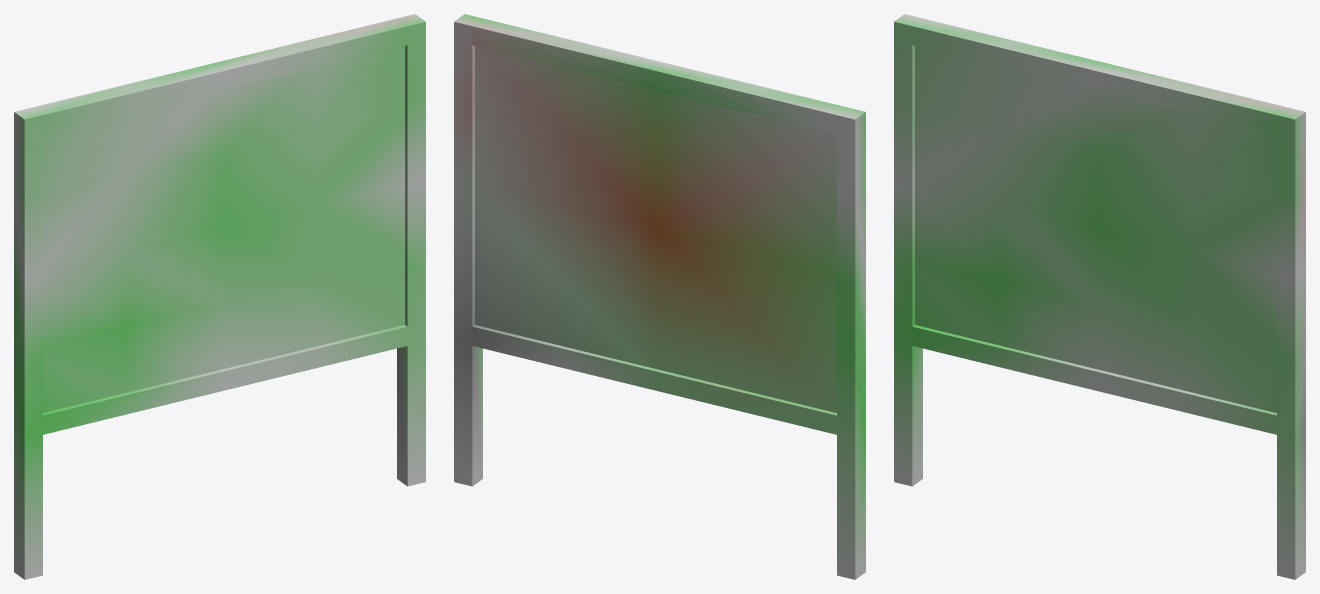
Rendered from Board_1.fbx.
3 views of the same model, side by side, from view 1: azimuth 30°, elevation 25°; view 2: azimuth 150°, elevation 25°; view 3: azimuth 330°, elevation 25° (orthographic).
Parts seen in each view (by area): view 1: Board_1; view 2: Board_1; view 3: Board_1.
Part boxes in pixels (left/top/right/bottom): Board_1: left=14, top=14, right=425, bottom=579; Board_1: left=454, top=14, right=865, bottom=579; Board_1: left=894, top=14, right=1305, bottom=579.
Bounding box in the file's own units: 2.1 × 2.3 × 0.096.
